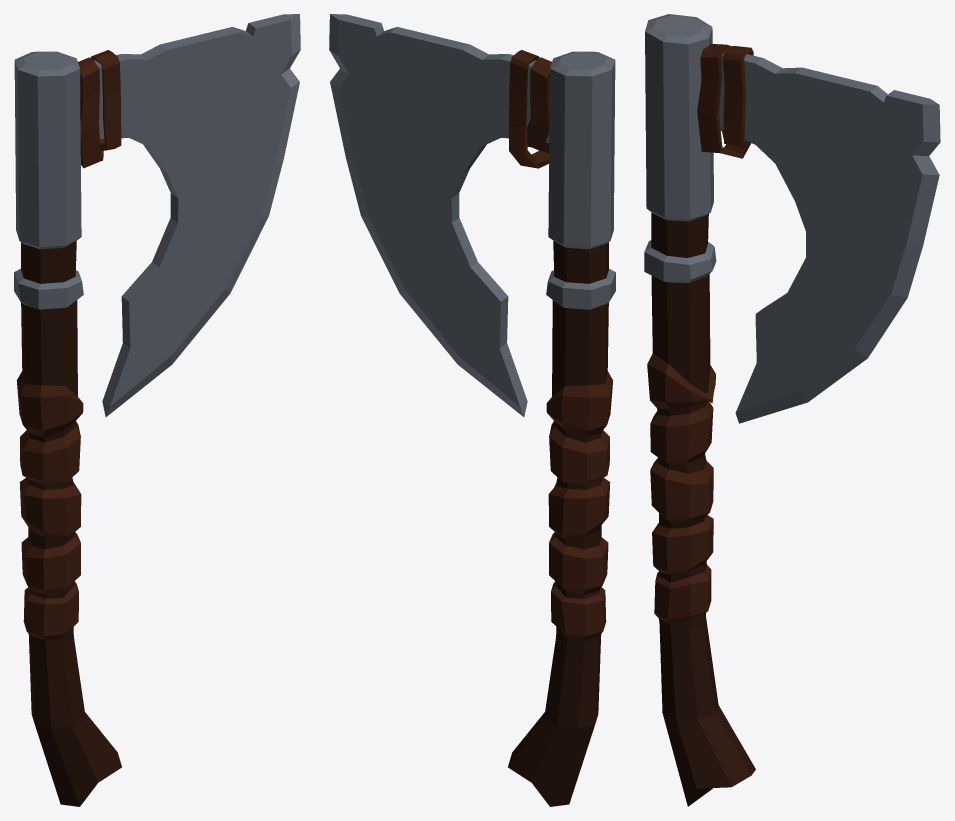
Rendered from Axe_Small.glb.
3 views of the same model, side by side, from view 1: azimuth 30°, elevation 25°; view 2: azimuth 150°, elevation 25°; view 3: azimuth 330°, elevation 25° (orthographic). The views are drawn at different scales.
Parts seen in each view (by area): view 1: Axe_small; view 2: Axe_small; view 3: Axe_small.
Boxes of the visible parts, x1,y1,x2,y2 form: Axe_small: (14, 14, 300, 806); Axe_small: (329, 14, 615, 806); Axe_small: (644, 14, 940, 806).
Bounding box in the file's own units: 0.396 × 1 × 0.084.
